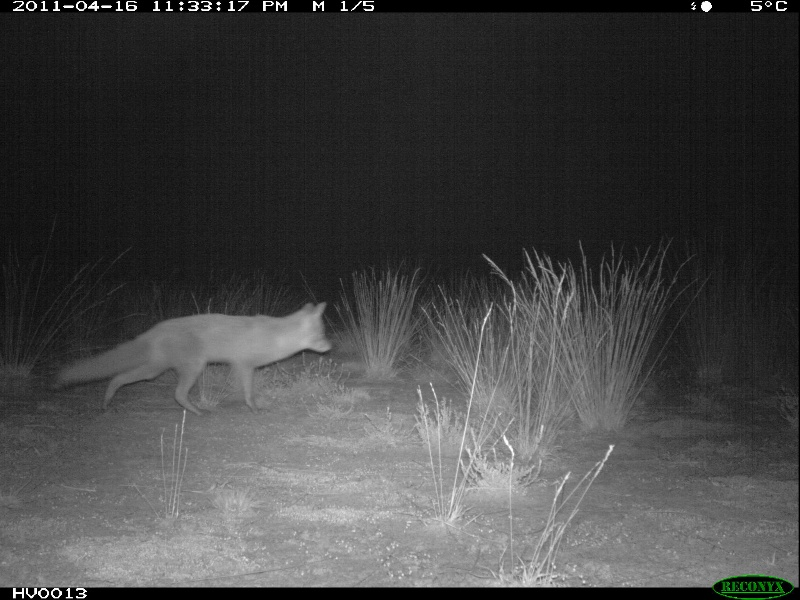fox: (43, 296, 333, 412)
